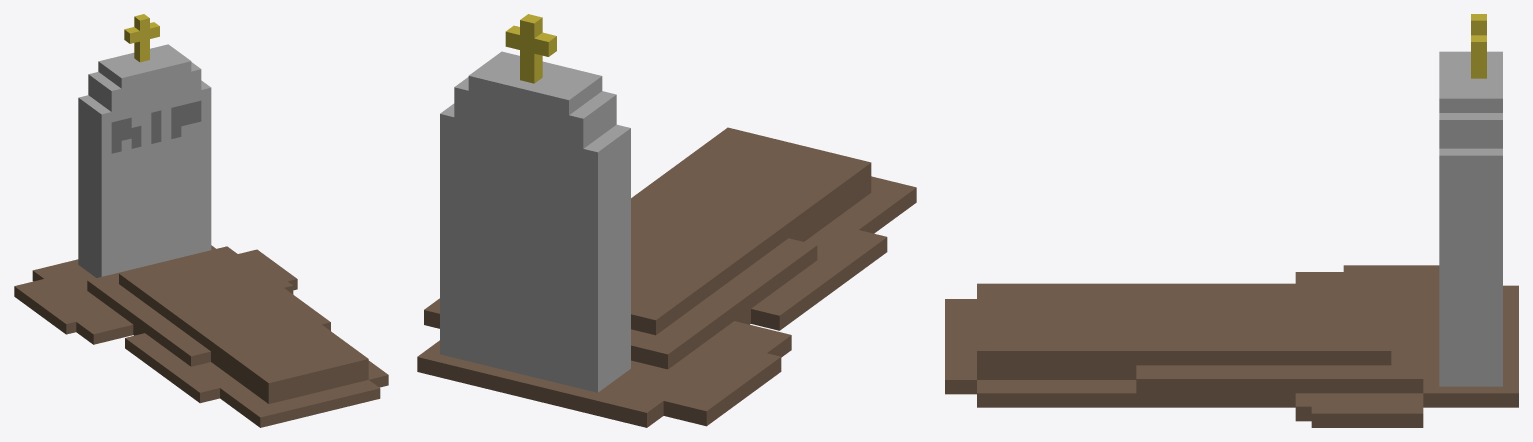
File: Grave.fbx
3 renders of one model, left to right at view 1: azimuth 30°, elevation 25°; view 2: azimuth 150°, elevation 25°; view 3: azimuth 270°, elevation 25°, orthographic. The views are drawn at different scales.
Visible parts, largest first — view 1: root; view 2: root; view 3: root.
Part boxes in pixels (box(x1,y1,x2,y2)): root: box(14, 14, 388, 427); root: box(417, 14, 916, 427); root: box(945, 14, 1518, 427).
Bounding box in the file's own units: 0.4693 × 0.512 × 0.768.
1 material, 1 textured.
